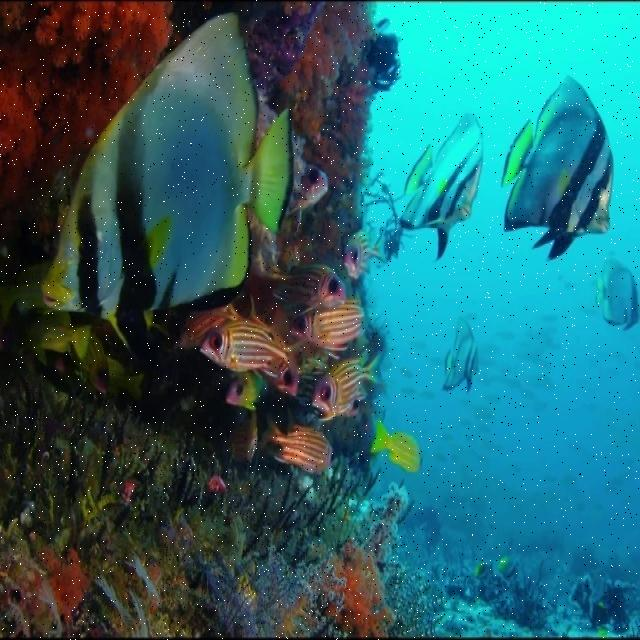fish: (40, 13, 295, 359), (501, 75, 614, 259), (400, 113, 484, 261), (201, 318, 305, 383), (311, 348, 383, 420), (262, 419, 336, 470), (289, 302, 366, 350), (595, 259, 638, 330), (443, 317, 479, 392), (370, 420, 421, 471)
reefs: (0, 2, 174, 215)
